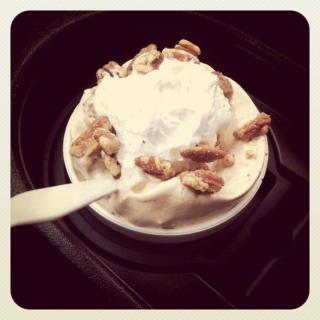Ice cream: (72, 47, 266, 243)
